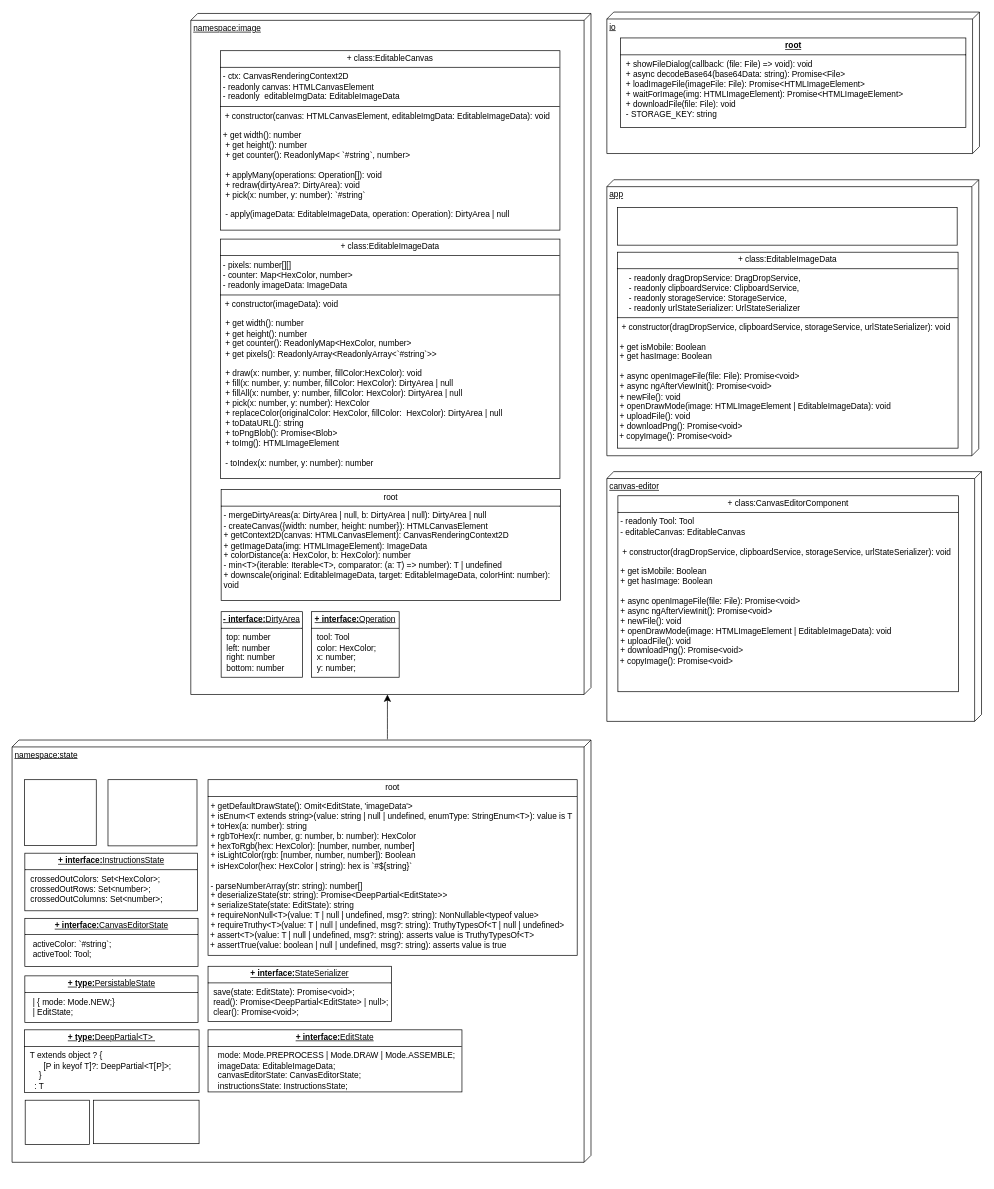
Image size: 994x1189. Some labels were removed from this diagram. Here are the shapes that lost their labels. From the top down, the centre of each, then its label:
point (787, 226): root - hasImageData(state: PersistableState): state is EditState
point (60, 812): enum: Tool DRAW FILL MAGIC_WAND
point (152, 812): enum: Mode NEW = 'n', PREPROCESS = 'p', DRAW = 'd', ASSEMBLE = 'a'
point (56, 1122): + type:HexColor `#string`
point (146, 1122): + interface: StringEnum<T> [id: string]: T | string;
